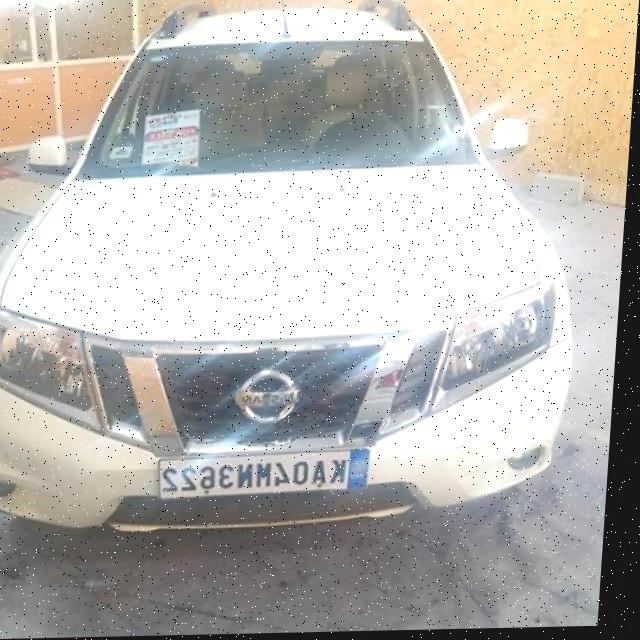plate: (163, 450, 376, 500)
